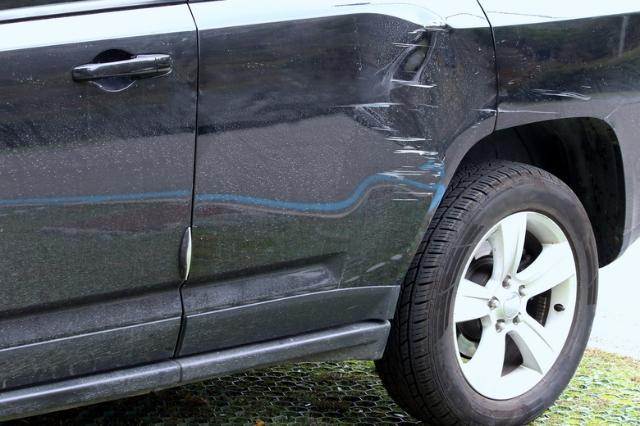Door: (242, 6, 491, 241)
